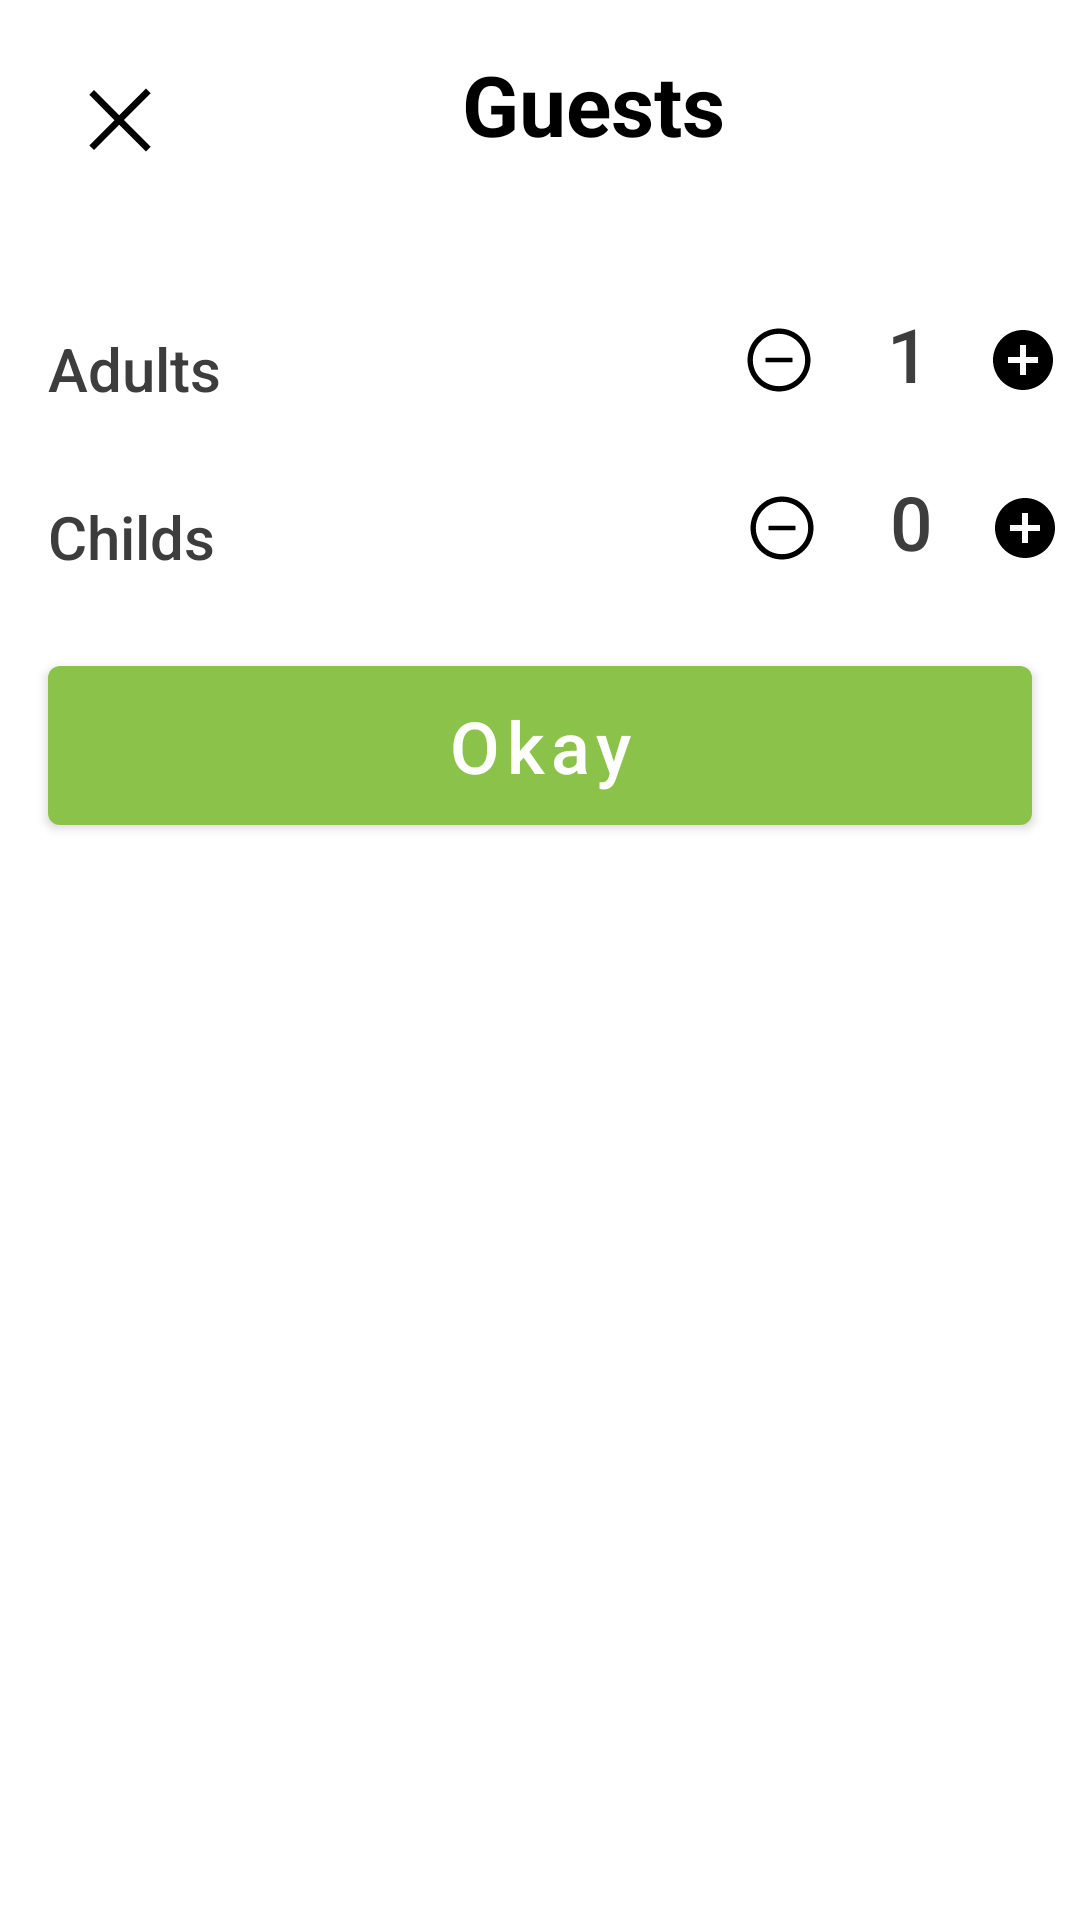

Named icons in this screenshot (1080w x 1920h) and their bounding boxes, rect(x1, y1, x2, y2):
addcircle: rect(993, 330, 1053, 390), rect(995, 498, 1055, 558)
close: rect(89, 88, 151, 152)
mincircle: rect(747, 328, 811, 392), rect(750, 496, 814, 560)
